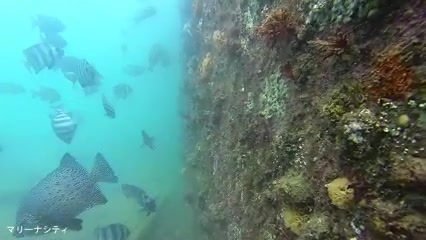ishidai: (18, 41, 67, 73), (49, 104, 82, 142)
